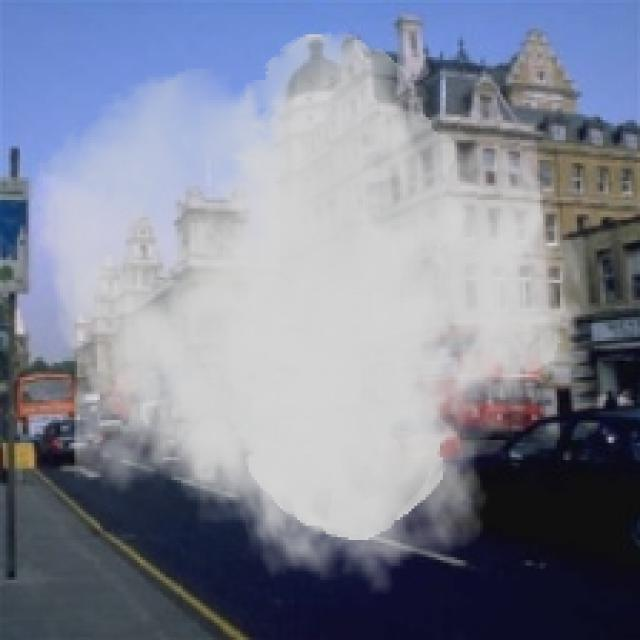smoke: (26, 32, 588, 597)
